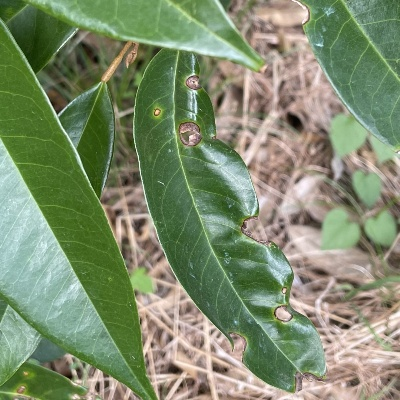Leaf_Phomopsis: (131, 48, 328, 394)
